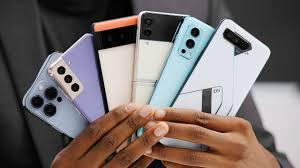Hand: (147, 108, 277, 168), (48, 114, 167, 168)
Smartphone: (171, 34, 277, 140), (149, 13, 216, 130), (53, 39, 114, 136), (91, 20, 139, 134), (137, 9, 182, 121), (21, 65, 87, 138)
